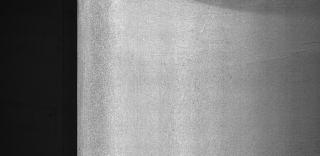scratches: (234, 36, 320, 70)
